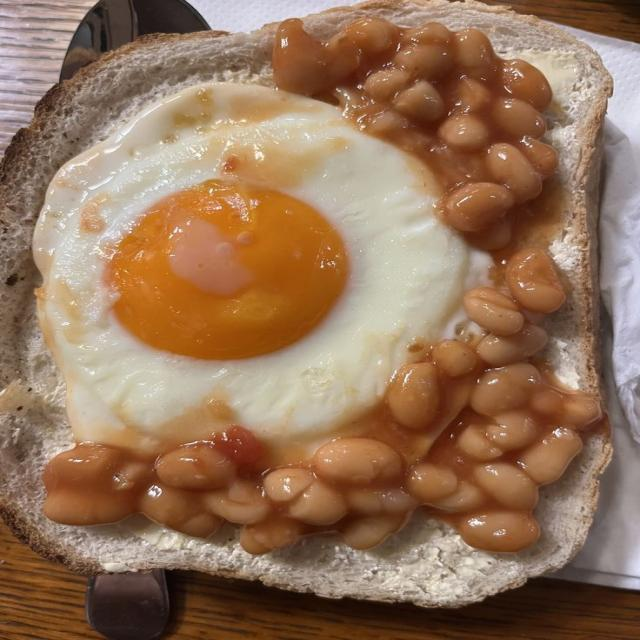beans: (274, 19, 333, 95), (314, 438, 402, 485), (140, 485, 219, 537), (44, 443, 125, 491), (506, 249, 566, 313), (470, 363, 539, 416), (156, 443, 234, 489), (442, 183, 514, 232), (43, 488, 137, 525), (520, 428, 582, 484), (387, 363, 439, 429), (459, 511, 539, 551), (487, 143, 541, 202), (474, 462, 537, 510), (463, 287, 524, 335), (203, 480, 270, 523), (477, 325, 547, 366), (287, 480, 346, 525), (501, 60, 552, 110), (240, 515, 303, 554), (491, 99, 546, 140), (394, 43, 454, 80), (340, 515, 405, 549), (393, 81, 445, 121), (455, 29, 496, 78), (487, 410, 537, 450), (344, 18, 398, 55), (407, 463, 458, 502), (346, 488, 415, 515), (438, 114, 488, 151), (432, 340, 477, 378), (517, 136, 558, 177), (264, 468, 313, 502), (363, 69, 413, 102), (458, 425, 503, 461), (467, 216, 513, 251), (434, 481, 485, 512), (561, 394, 601, 429), (173, 512, 221, 538), (456, 77, 491, 112), (114, 460, 149, 491), (401, 23, 453, 43), (368, 111, 408, 137), (530, 387, 563, 416)
fryed egg: (33, 82, 469, 452)
sliced bread: (0, 0, 610, 607)
